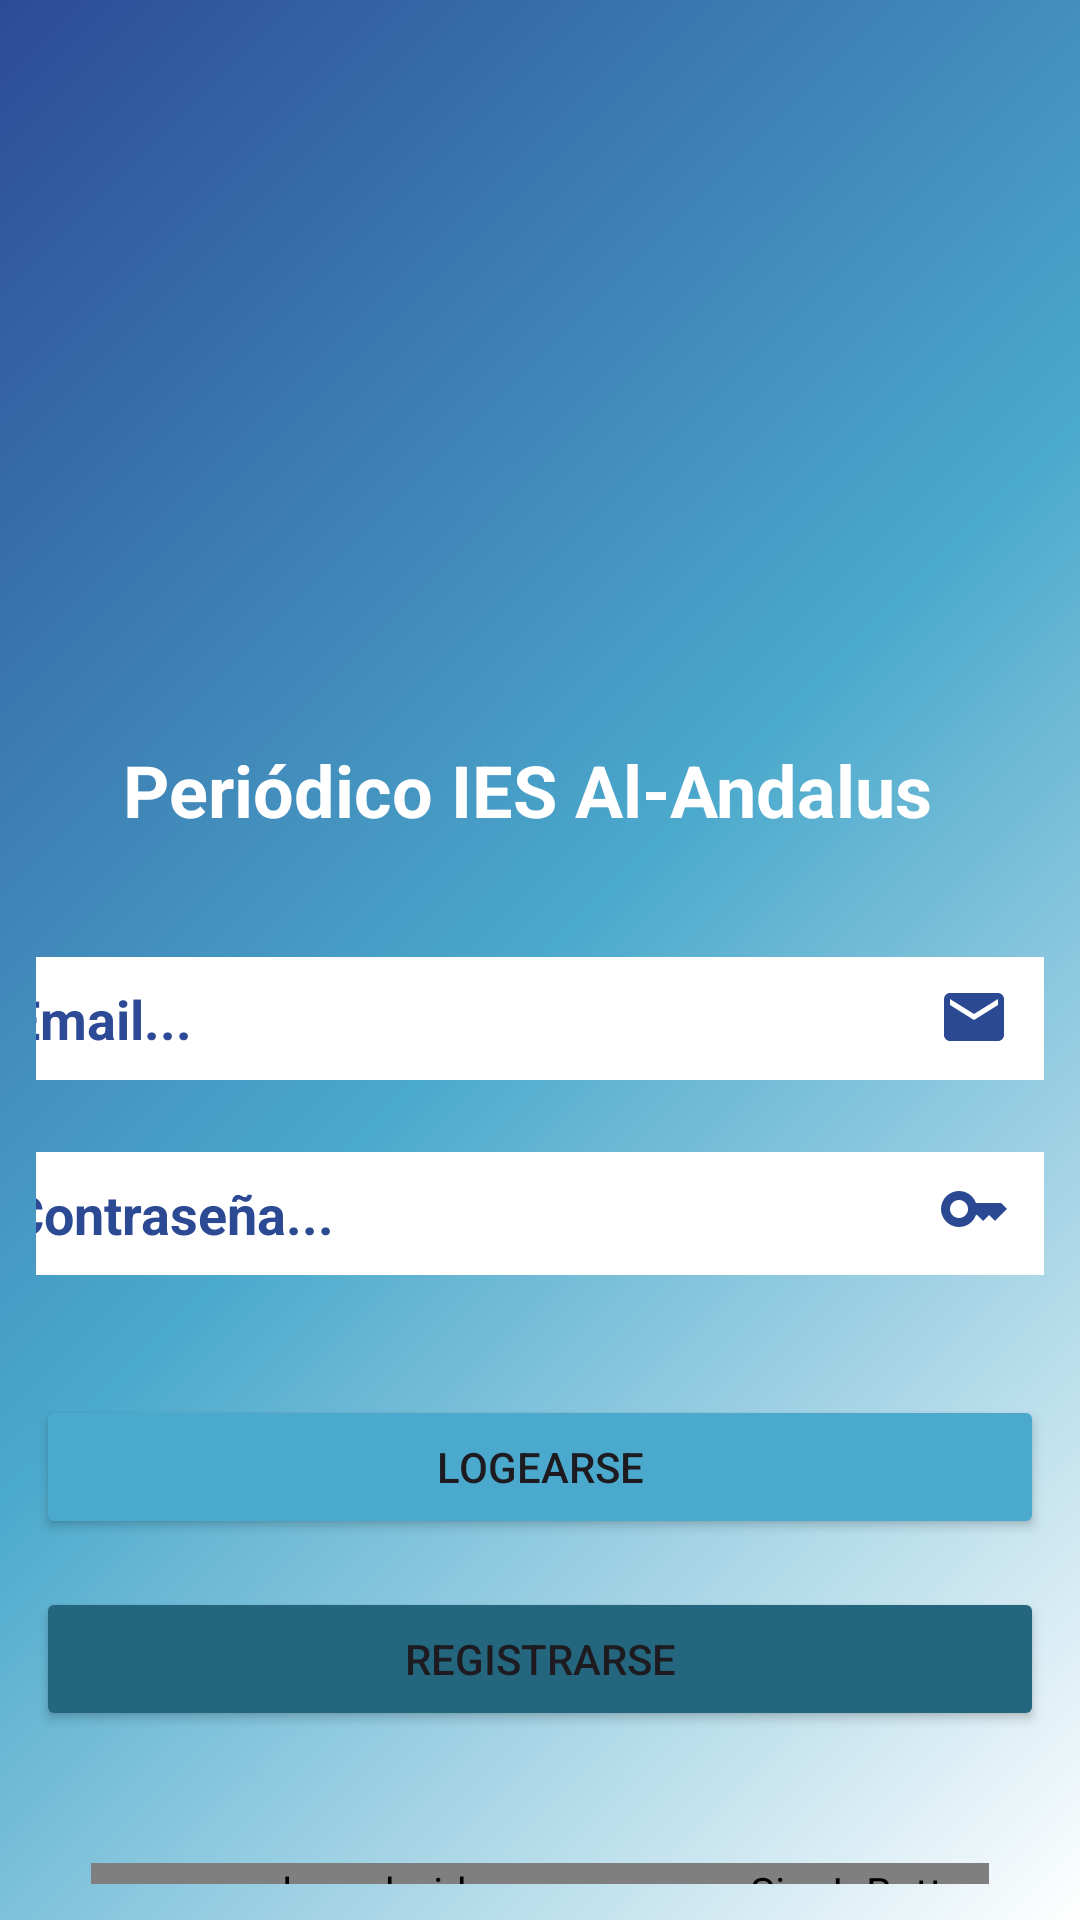

Named icons in this screenshot (1080 × 1920) and their centers, point (x, y):
key: point (974, 1209)
